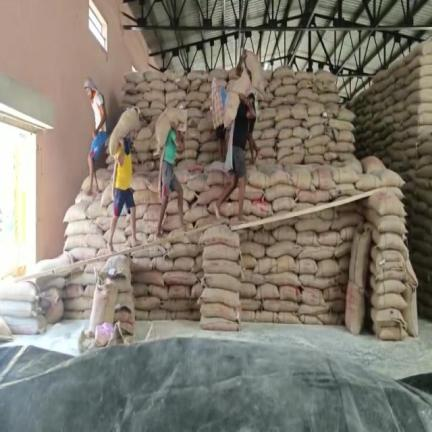Zone-Counting: (217, 51, 255, 217), (107, 108, 140, 251), (156, 108, 186, 236)
